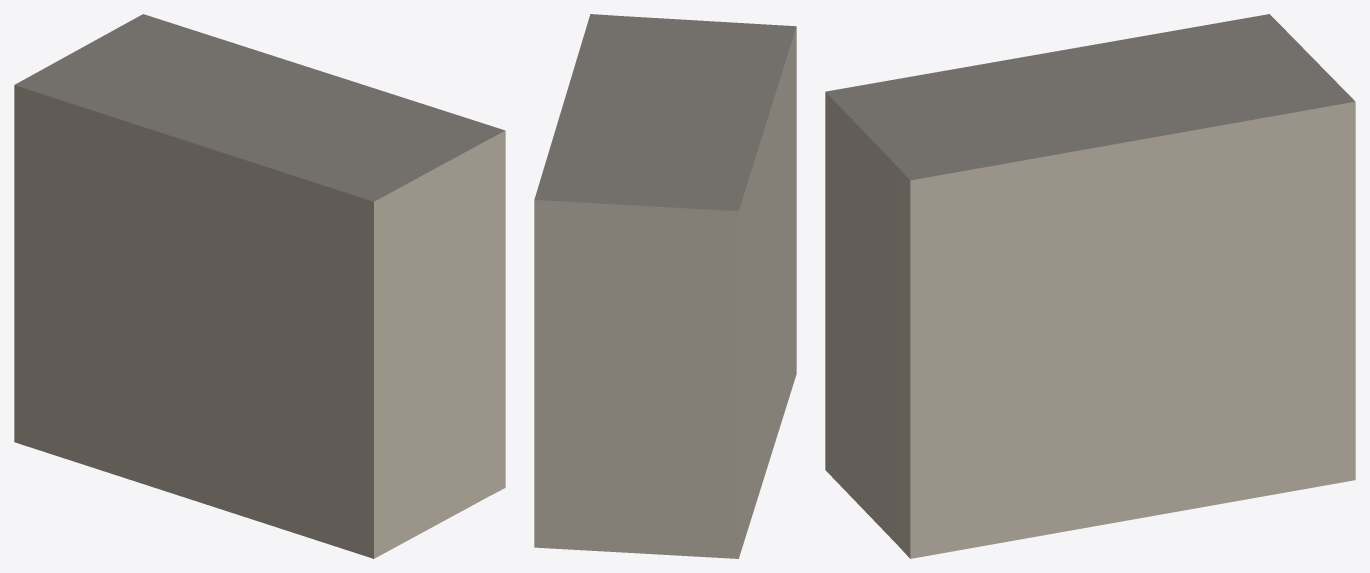
3 renders of one model, left to right at view 1: azimuth 30°, elevation 25°; view 2: azimuth 150°, elevation 25°; view 3: azimuth 270°, elevation 25°, orthographic. The views are drawn at different scales.
Visible parts, largest first — view 1: HP-w1217015642; view 2: HP-w1217015642; view 3: HP-w1217015642.
Boxes of the visible parts, <box> form: HP-w1217015642: <box>14,14,505,558</box>; HP-w1217015642: <box>534,14,796,558</box>; HP-w1217015642: <box>825,14,1355,558</box>.
Bounding box in the file's own units: 16.98 × 18 × 22.85.
